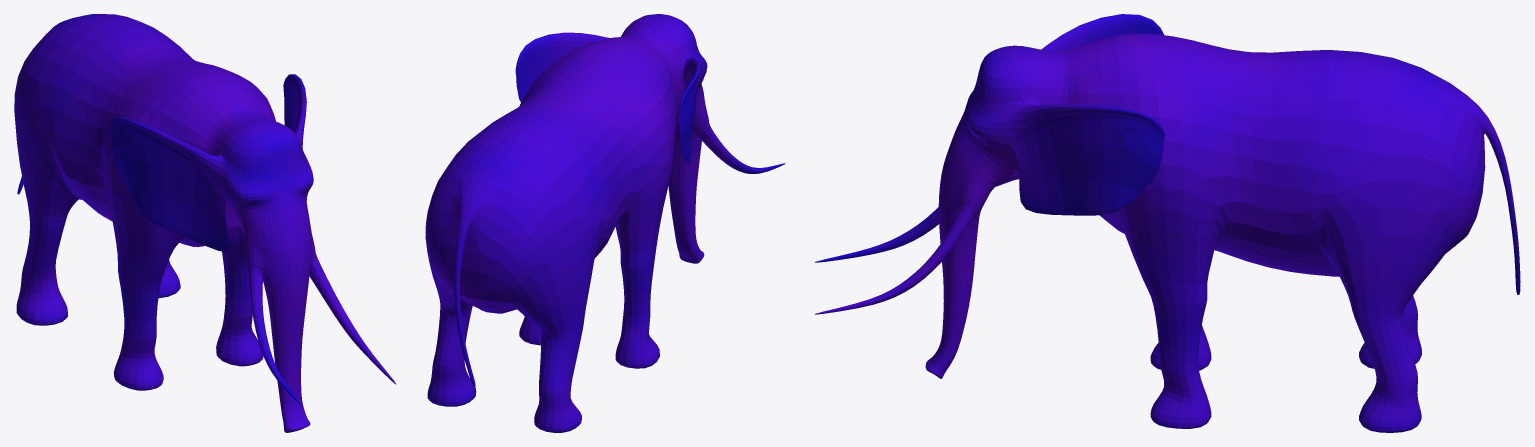
File: pred.glb
3 renders of one model, left to right at view 1: azimuth 30°, elevation 25°; view 2: azimuth 150°, elevation 25°; view 3: azimuth 270°, elevation 25°, orthographic. The views are drawn at different scales.
Bounding box in the file's own units: 0.2842 × 0.4719 × 0.8611.
